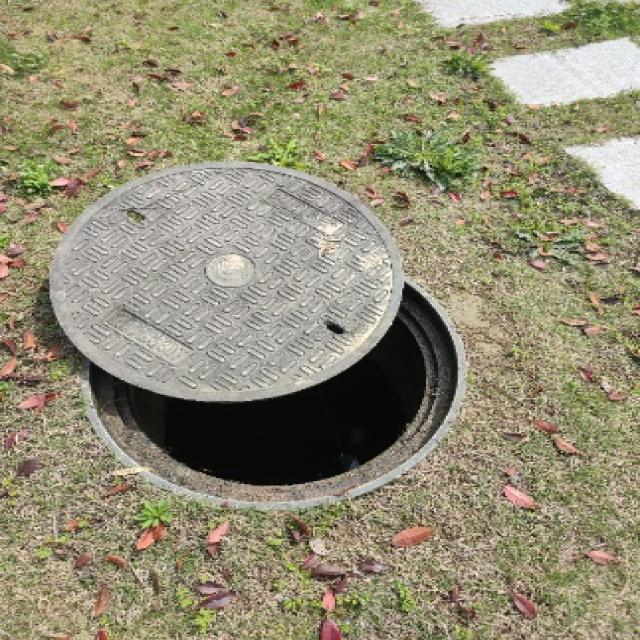Faulty: (48, 133, 492, 552)
